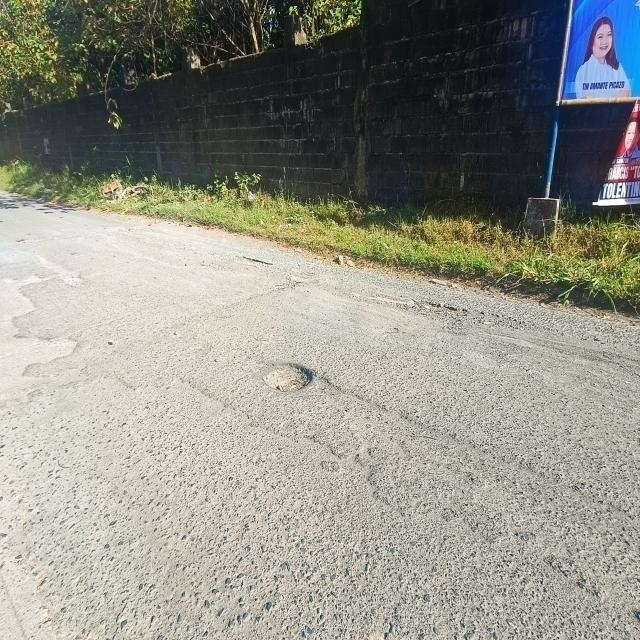pothole: (254, 344, 321, 404)
